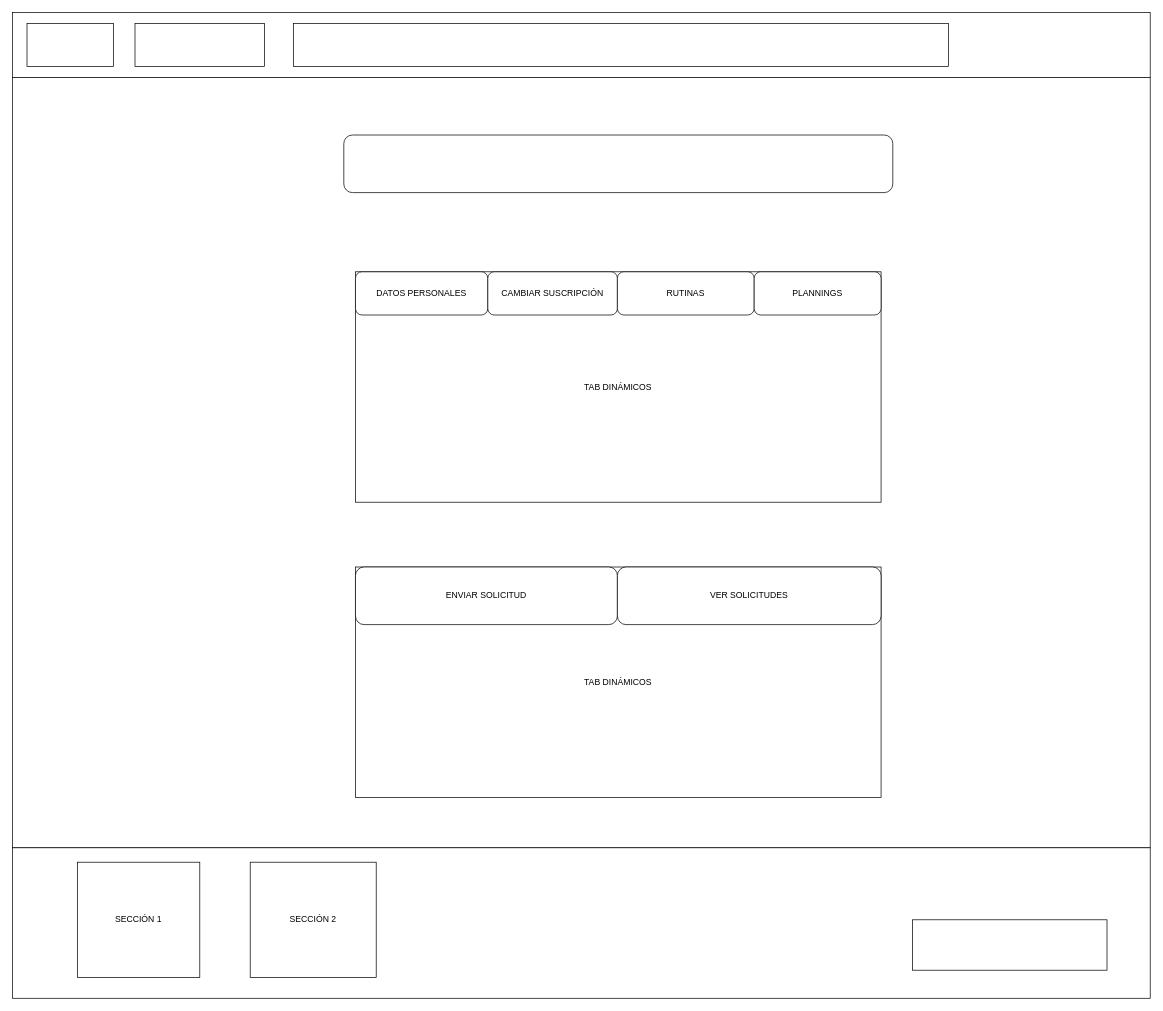
The diagram is 1163 pixels wide and 1011 high, and some of its shapes have lost their labels. Each missing label, with the centre of its shape:
INFO EXTRA: [1009,944]
LOGO: [69,45]
MENU: [621,45]
NOMBRE DE EMPRESA: [199,45]
TÍTULO PERFIL: [618,163]
